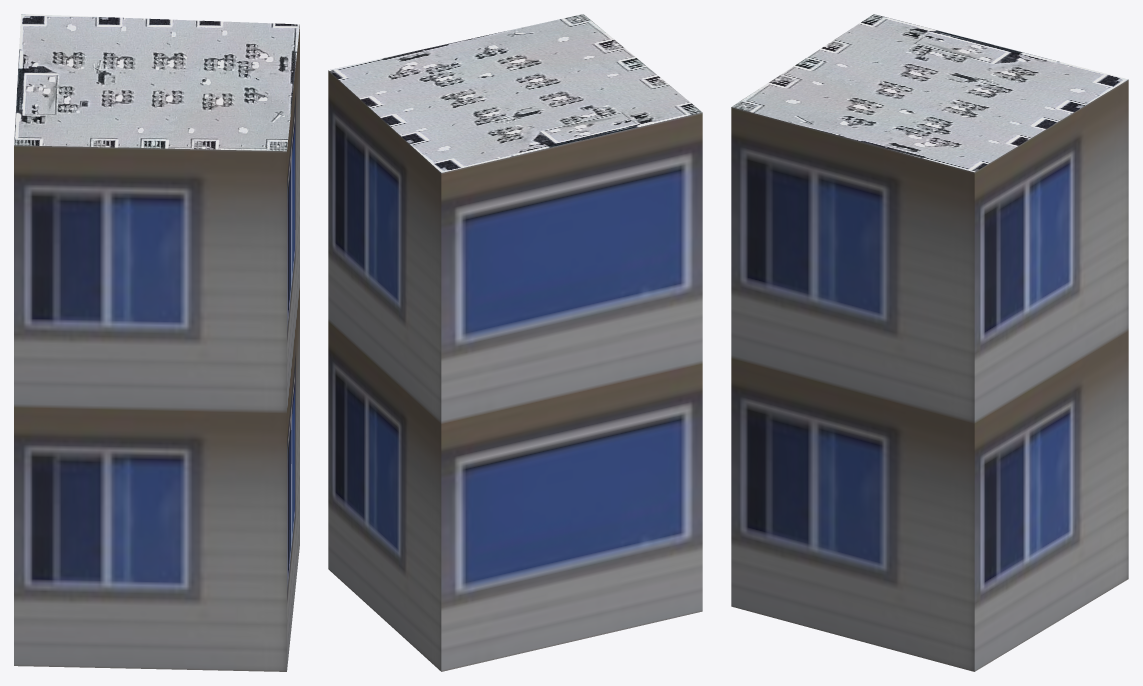
The model's file is ResTex__3834.fbx.
3 renders of one model, left to right at view 1: azimuth 30°, elevation 25°; view 2: azimuth 150°, elevation 25°; view 3: azimuth 270°, elevation 25°, orthographic. The views are drawn at different scales.
Visible parts, largest first — view 1: CityEngineMaterial_23_m, CityEngineMaterial_8_m; view 2: CityEngineMaterial_23_m, CityEngineMaterial_8_m; view 3: CityEngineMaterial_23_m, CityEngineMaterial_8_m.
Boxes of the visible parts, x1,y1,x2,y2 form: CityEngineMaterial_23_m: (14,26,299,671); CityEngineMaterial_8_m: (14,14,299,151); CityEngineMaterial_23_m: (328,70,702,671); CityEngineMaterial_8_m: (328,14,702,172); CityEngineMaterial_23_m: (731,79,1128,671); CityEngineMaterial_8_m: (732,14,1128,172).
Bounding box in the file's own units: 4.08 × 6 × 4.33.
Materials: 2 (2 with a texture image).
